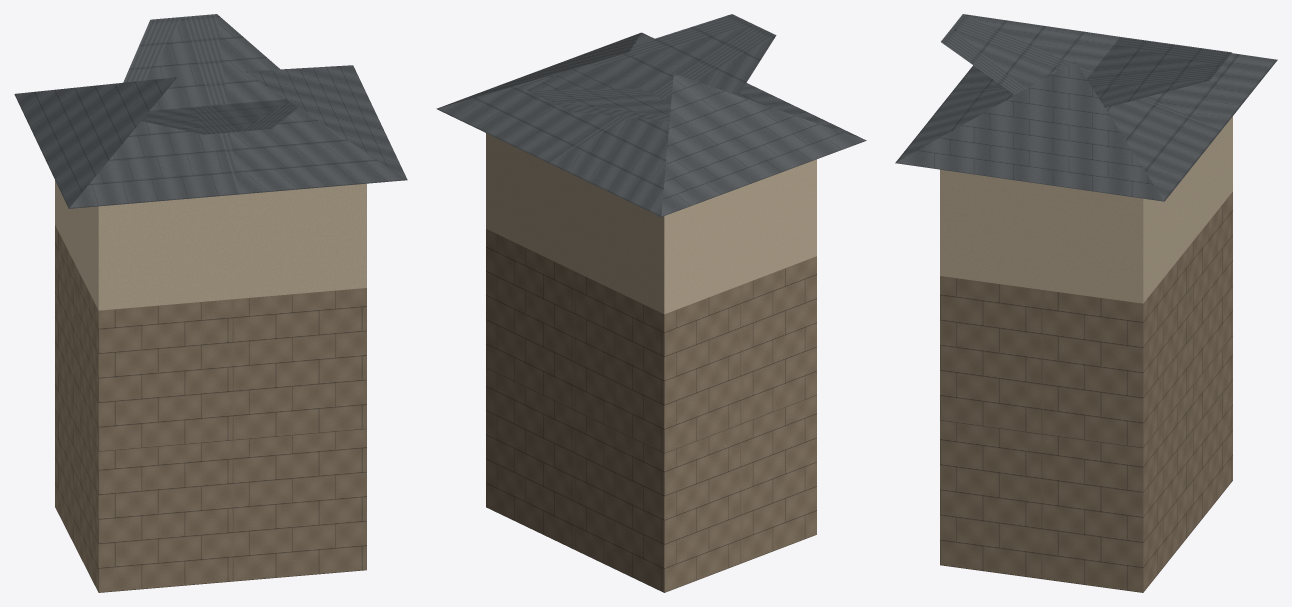
File: bld_c0_9_488.gltf
The picture shows the model from 3 angles, left to right: view 1: azimuth 30°, elevation 25°; view 2: azimuth 150°, elevation 25°; view 3: azimuth 270°, elevation 25°; orthographic projection. The views are drawn at different scales.
Parts seen in each view (by area): view 1: bld_c0_9_488; view 2: bld_c0_9_488; view 3: bld_c0_9_488.
Part boxes in pixels (bbox=[...]): bld_c0_9_488: bbox=[14, 14, 407, 592]; bld_c0_9_488: bbox=[436, 14, 866, 592]; bld_c0_9_488: bbox=[895, 14, 1277, 592].
Size of the model in its own units: 6.01 by 7.4 by 5.4.
3 materials, 3 textured.
